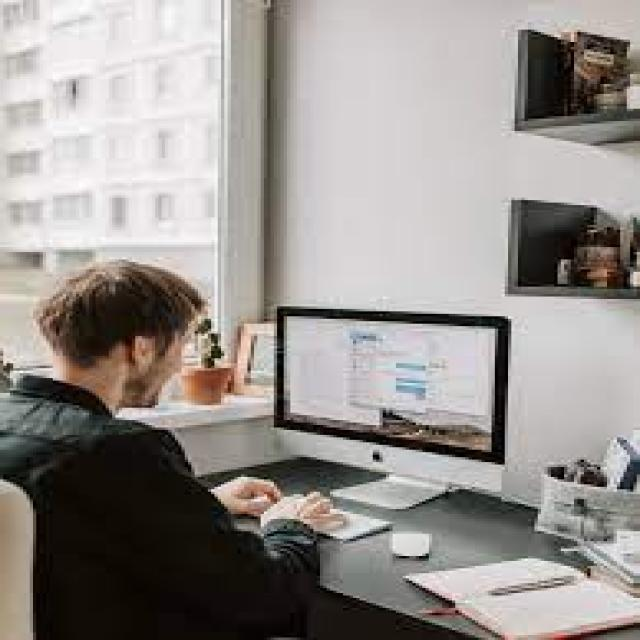book: (407, 556, 638, 640)
komputer: (272, 308, 510, 512)
